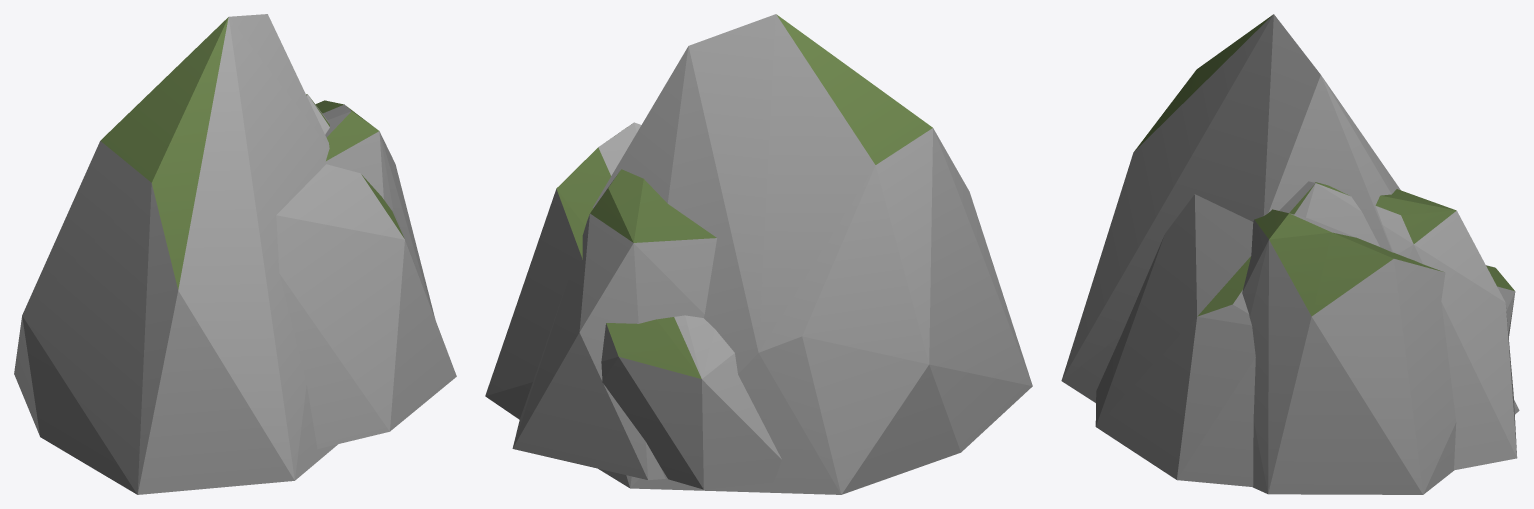
The model's file is rk_pebble_2.glb.
3 views of the same model, side by side, from view 1: azimuth 30°, elevation 25°; view 2: azimuth 150°, elevation 25°; view 3: azimuth 270°, elevation 25° (orthographic). The views are drawn at different scales.
Visible parts, largest first — view 1: rk_pebble_2; view 2: rk_pebble_2; view 3: rk_pebble_2.
Boxes of the visible parts, <box> form: rk_pebble_2: <box>14,14,456,494</box>; rk_pebble_2: <box>485,14,1032,494</box>; rk_pebble_2: <box>1061,14,1519,494</box>.
Bounding box in the file's own units: 8.44 × 7.75 × 8.34.
